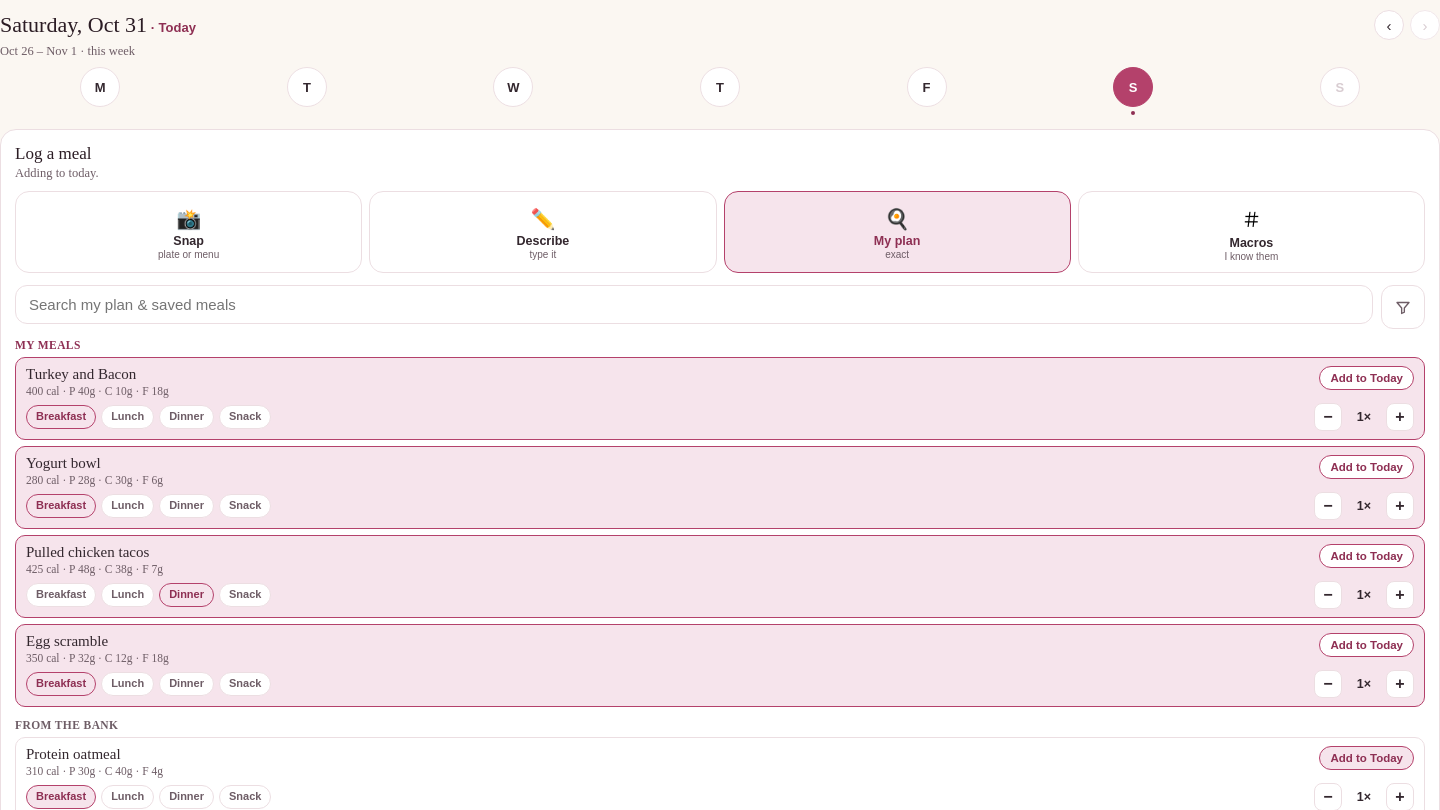
Scenario: MealLogCard My plan list › keeps dinner tacos out of Breakfast and shows all saved under My meals
Click the button named "Filter meals".
click(1403, 307)  # box [1381,285,1425,329]
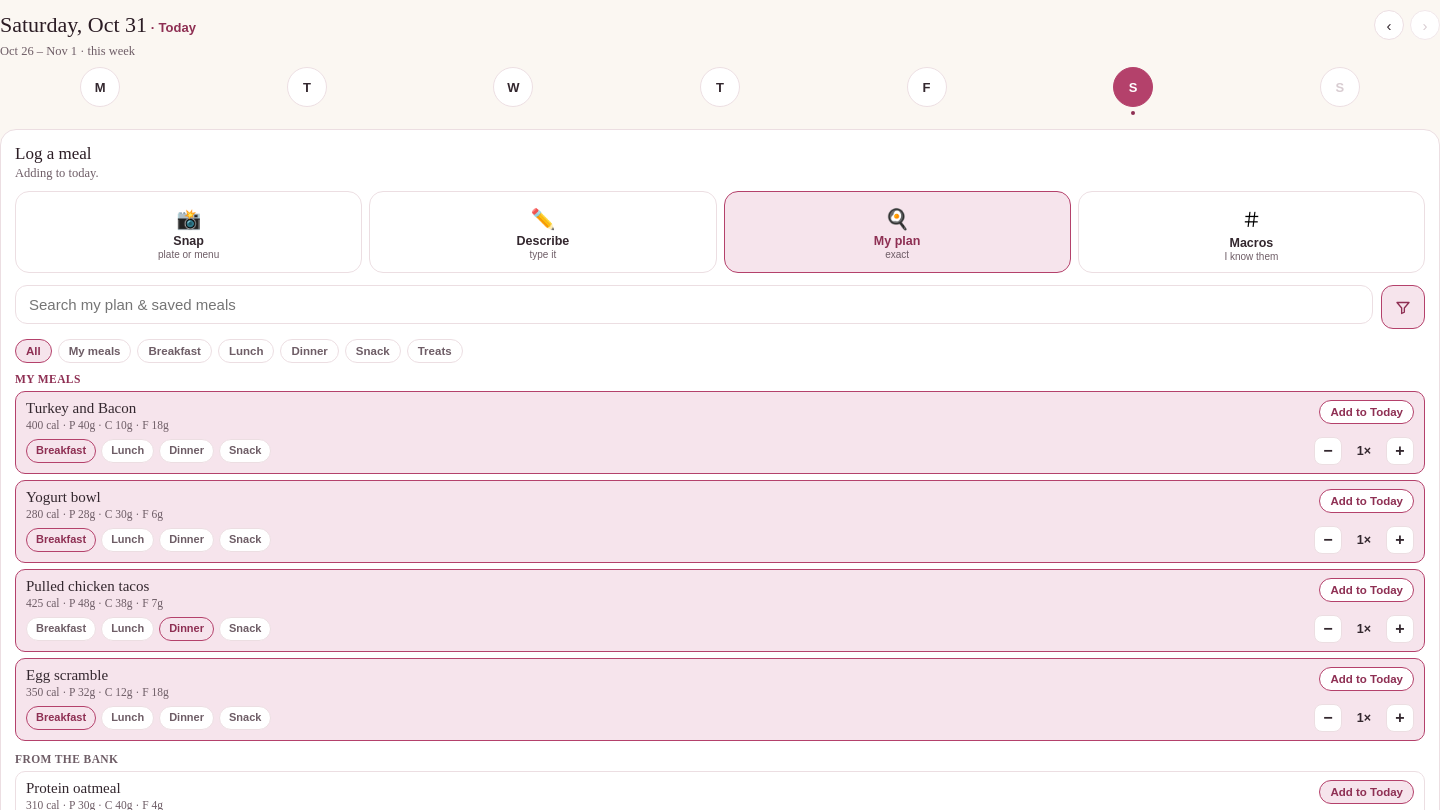
Now the option "My meals" is shown, box [58,339,132,363]
Click the option "Breakfast".
click(175, 351)  # box [138,339,212,363]
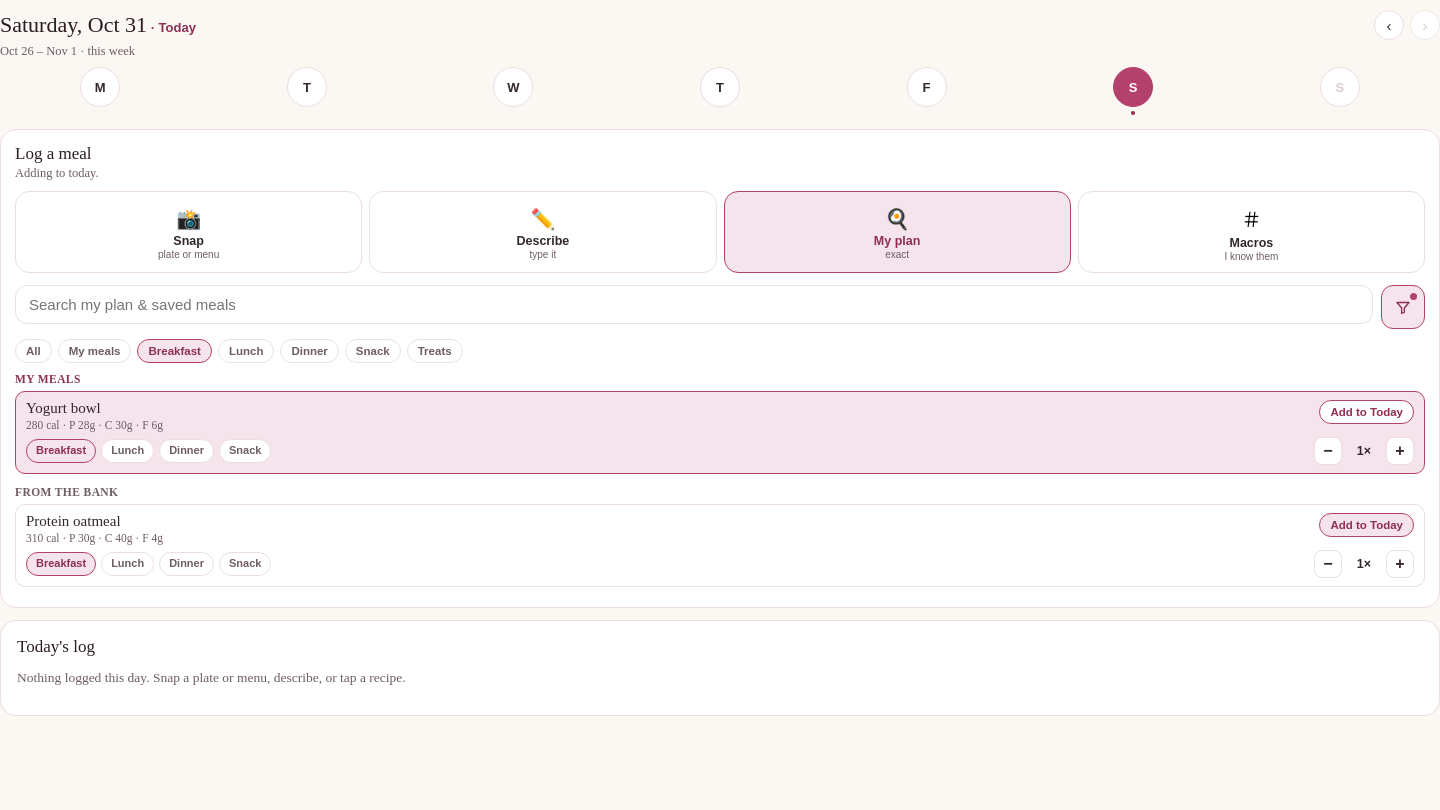
Expected: the text "Protein oatmeal" is shown, [26,513,121,529]
Now the text "Pulled chicken tacos" is gone
Now the text "Turkey and Bacon" is gone
Click the option "My meals".
click(95, 351)  # box [58,339,132,363]
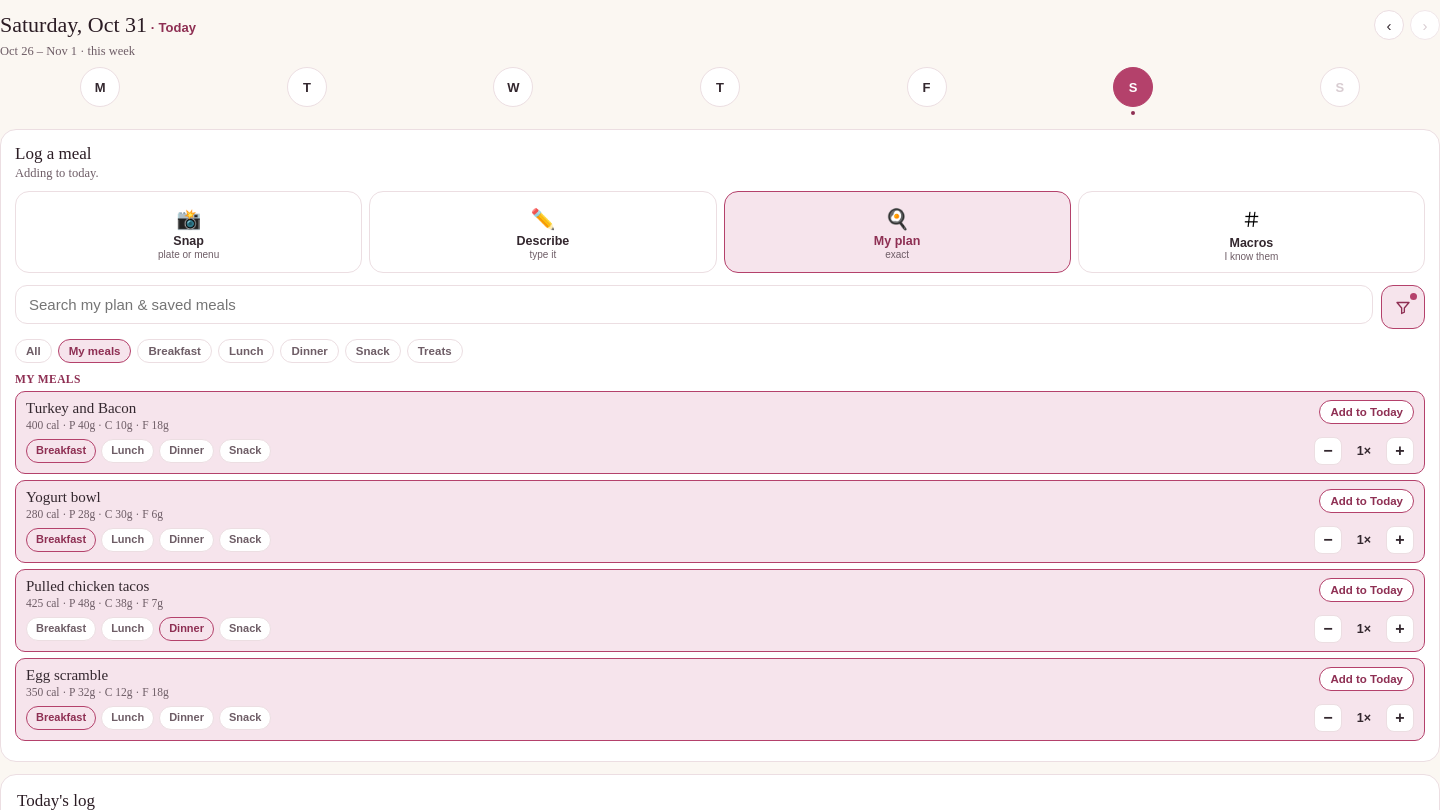
Now the text "Turkey and Bacon" is shown, box [26,400,136,416]
Now the text "Pulled chicken tacos" is shown, box [26,578,149,594]
Now the text "Protein oatmeal" is gone
